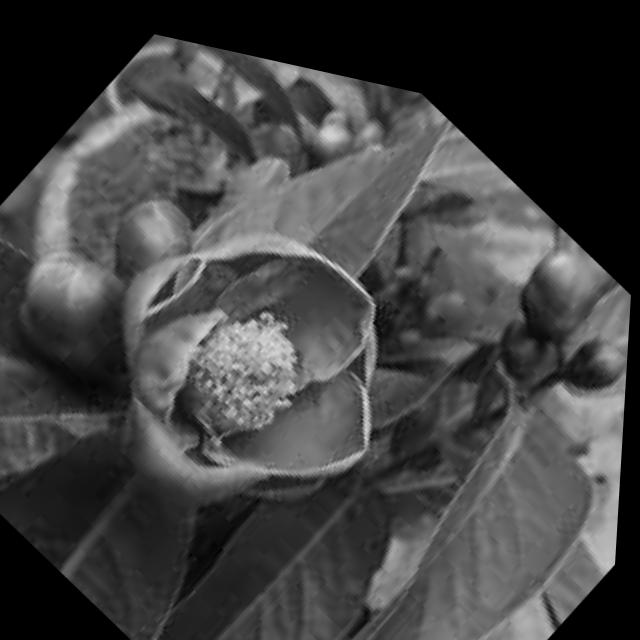Flower: (57, 140, 460, 599)
